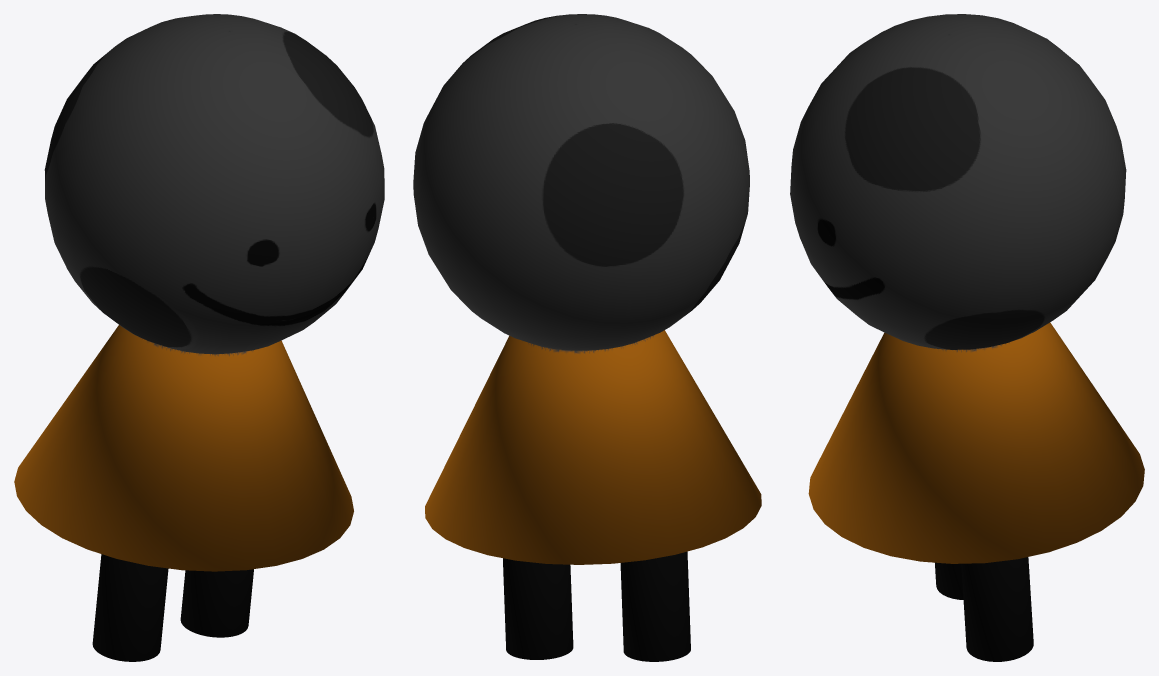
File: Malloony.glb
The picture shows the model from 3 angles, left to right: view 1: azimuth 30°, elevation 25°; view 2: azimuth 150°, elevation 25°; view 3: azimuth 270°, elevation 25°; orthographic projection.
Visible parts, largest first — view 1: node_id9, node_id6, node_id15, node_id12; view 2: node_id9, node_id6, node_id15, node_id12; view 3: node_id9, node_id6, node_id12, node_id15.
Boxes of the visible parts, x1,y1,x2,y2 form: node_id9: (44,14,384,354); node_id6: (14,325,353,571); node_id15: (92,554,168,661); node_id12: (180,569,253,637); node_id9: (413,14,749,350); node_id6: (425,330,761,564); node_id15: (620,551,690,661); node_id12: (503,558,573,659); node_id9: (790,14,1126,349); node_id6: (808,322,1144,563); node_id12: (961,557,1033,661); node_id15: (935,562,963,599).
Bounding box in the file's own units: 0.2711 × 0.5054 × 0.2672.
4 materials, 4 textured.
